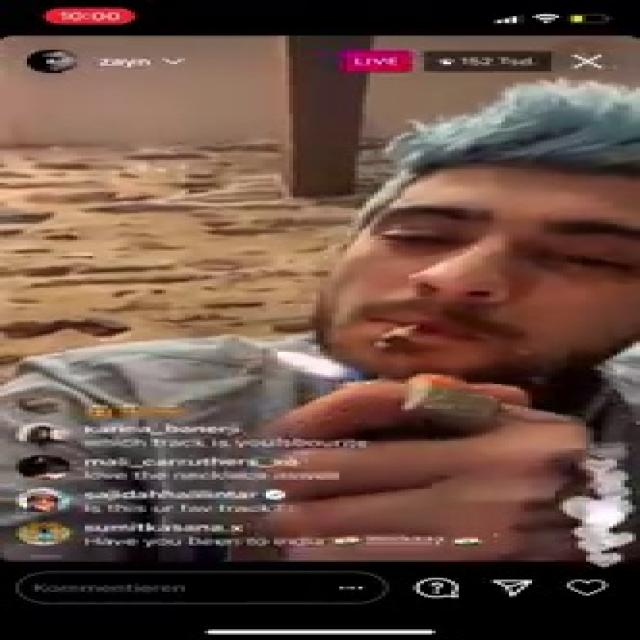Cigarette: (373, 323, 424, 352)
Mouth: (364, 306, 499, 353)
